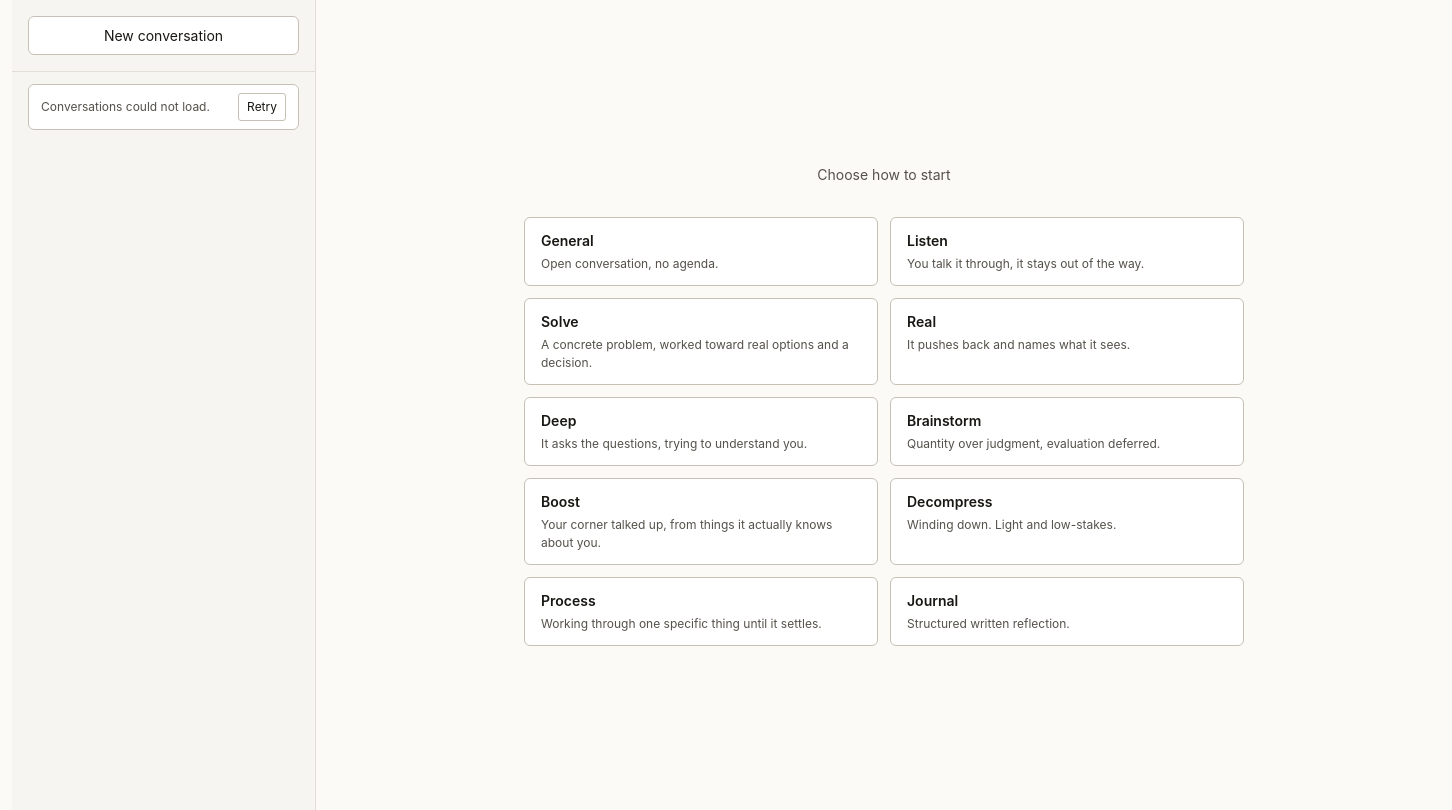
Test case: session list failure › shows a retry control when the session list fails to load, and recovers on retry
Check: the message shows "Conversations could not load.", box [41,99,210,114]
Click the button "Retry" at x=262, y=107, box [238,93,286,121]
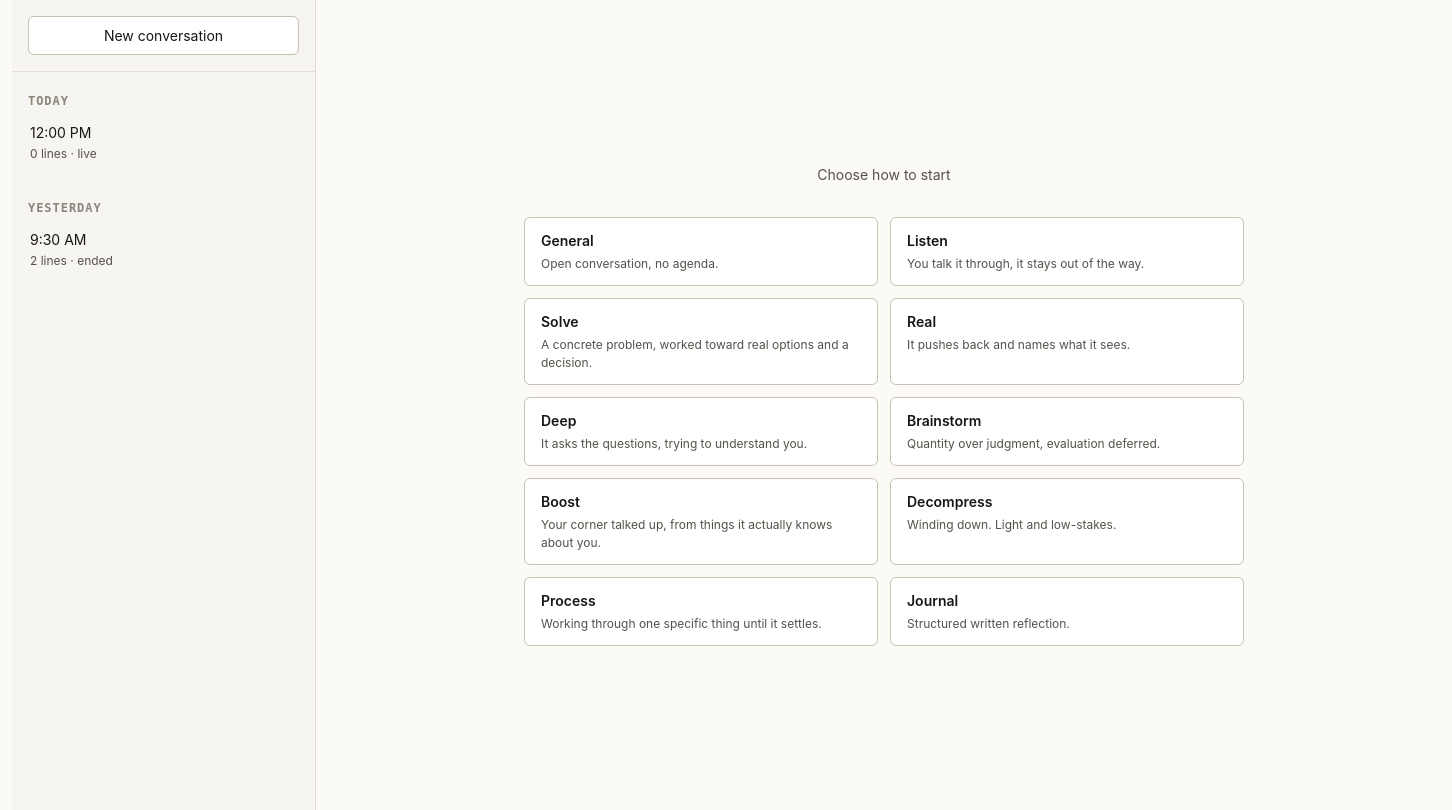
Check: the button "Retry" is gone
